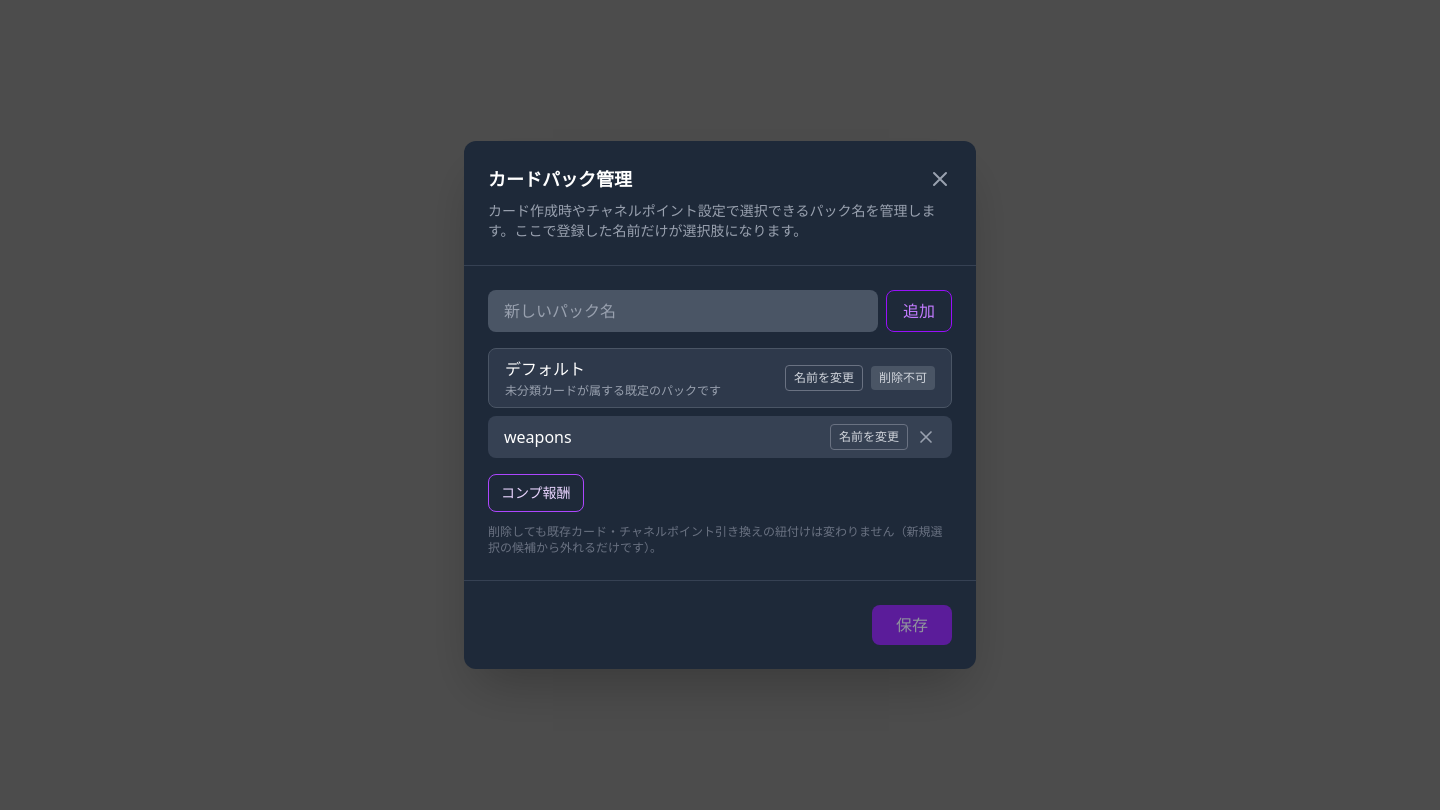
Scenario: CardPackModal › rejects a `__`-prefixed (reserved) pack name and does not add it
Type "__default__" into the field with placeholder "新しいパック名" at [683, 311], box [488,290,878,332]
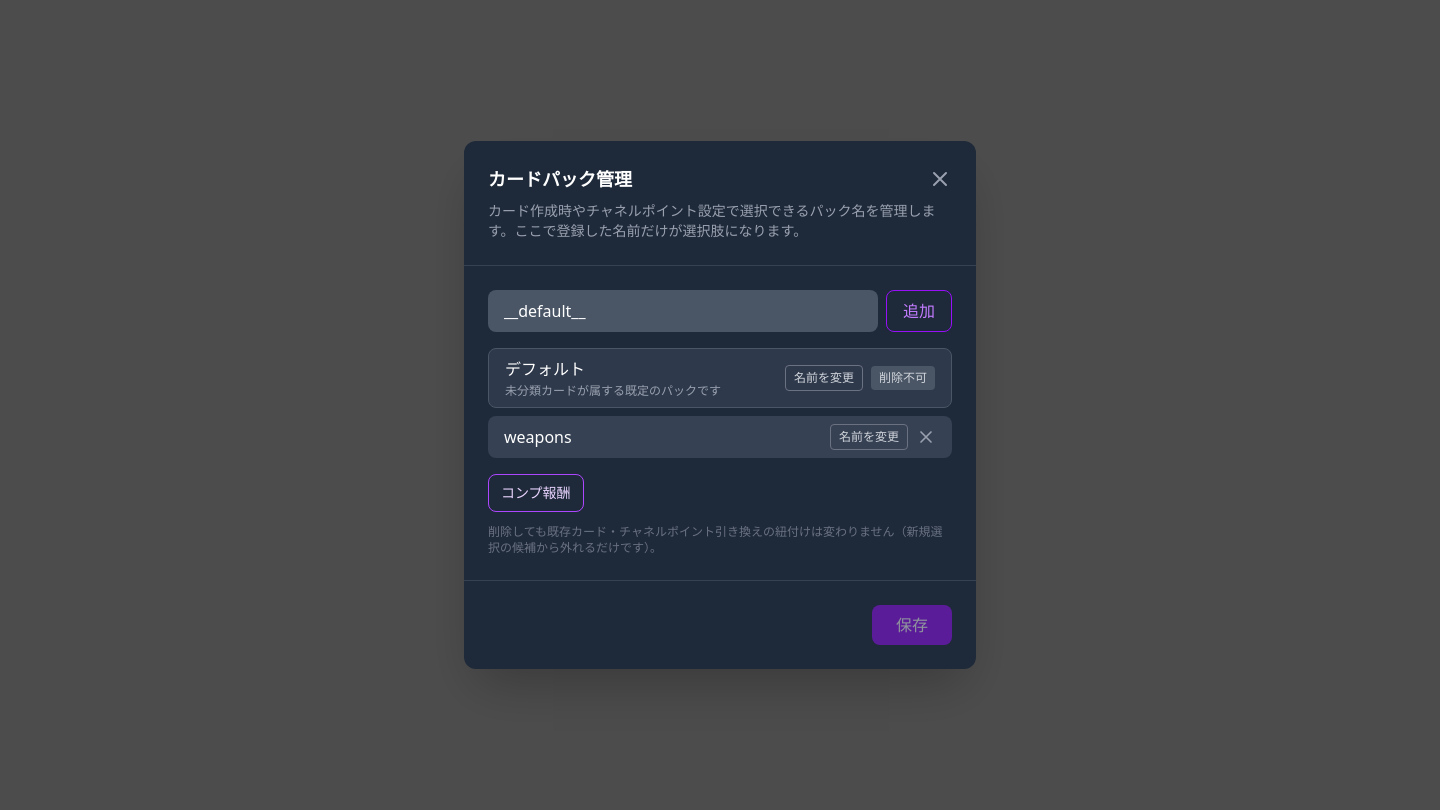
Click the button "追加" at [919, 311], box [886,290,952,332]
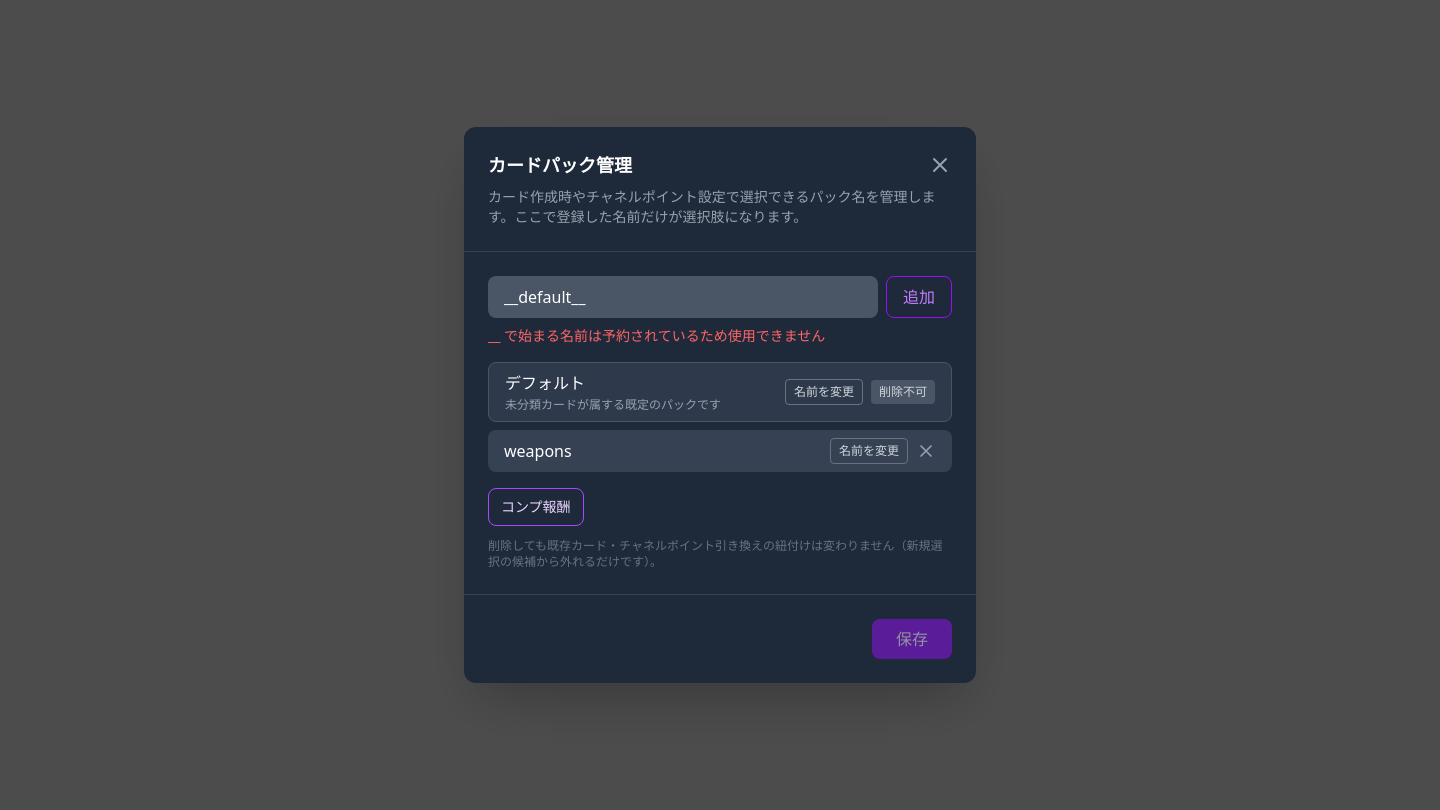
Check: the text "__ で始まる名前は予約されているため使用できません" is shown, box [488,326,825,345]
